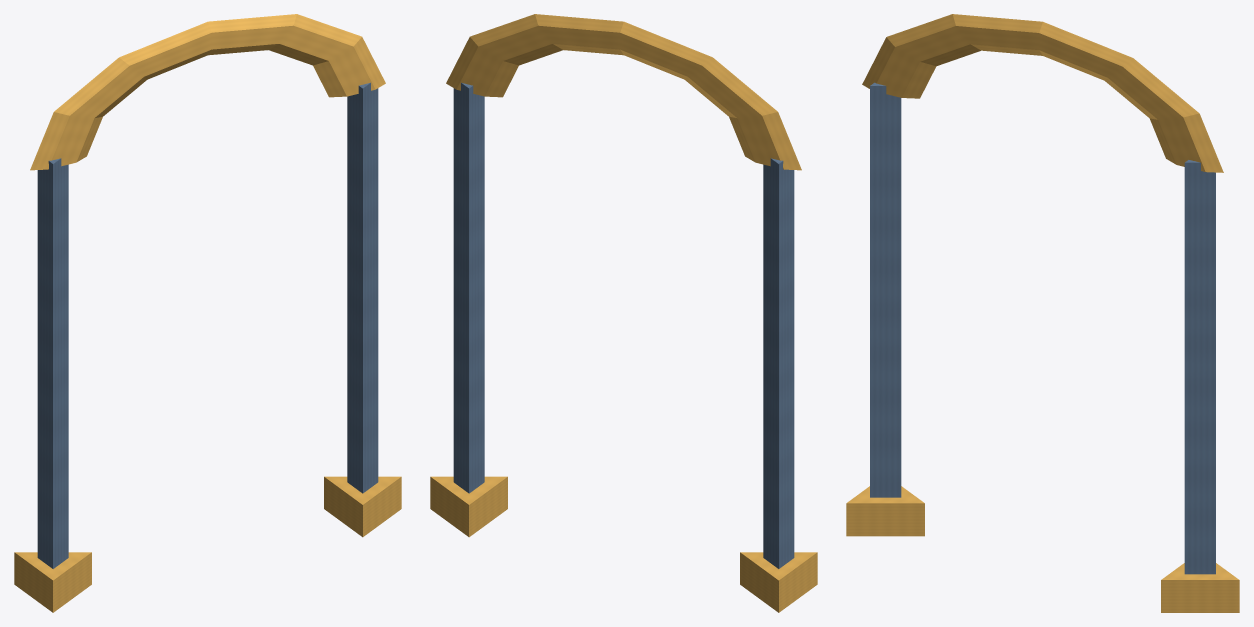
File: atlas100-s051-a09.lod2.glb
3 views of the same model, side by side, from view 1: azimuth 30°, elevation 25°; view 2: azimuth 150°, elevation 25°; view 3: azimuth 330°, elevation 25° (orthographic).
Parts seen in each view (by area): view 1: atlas100-s051-a09:part-004, atlas100-s051-a09:part-000, atlas100-s051-a09:part-002, atlas100-s051-a09:part-003, atlas100-s051-a09:part-001; view 2: atlas100-s051-a09:part-004, atlas100-s051-a09:part-000, atlas100-s051-a09:part-002, atlas100-s051-a09:part-003, atlas100-s051-a09:part-001; view 3: atlas100-s051-a09:part-004, atlas100-s051-a09:part-002, atlas100-s051-a09:part-000, atlas100-s051-a09:part-001, atlas100-s051-a09:part-003.
Part boxes in pixels (x1=…): atlas100-s051-a09:part-004: x1=30, y1=14, x2=385, y2=170; atlas100-s051-a09:part-000: x1=37, y1=158, x2=68, y2=568; atlas100-s051-a09:part-002: x1=347, y1=82, x2=378, y2=493; atlas100-s051-a09:part-003: x1=324, y1=476, x2=401, y2=537; atlas100-s051-a09:part-001: x1=14, y1=552, x2=91, y2=612; atlas100-s051-a09:part-004: x1=446, y1=14, x2=801, y2=170; atlas100-s051-a09:part-000: x1=763, y1=158, x2=794, y2=568; atlas100-s051-a09:part-002: x1=453, y1=82, x2=484, y2=493; atlas100-s051-a09:part-003: x1=430, y1=476, x2=507, y2=537; atlas100-s051-a09:part-001: x1=740, y1=552, x2=817, y2=612; atlas100-s051-a09:part-004: x1=862, y1=14, x2=1223, y2=172; atlas100-s051-a09:part-002: x1=1184, y1=160, x2=1215, y2=574; atlas100-s051-a09:part-000: x1=870, y1=82, x2=901, y2=497; atlas100-s051-a09:part-001: x1=846, y1=486, x2=924, y2=536; atlas100-s051-a09:part-003: x1=1161, y1=563, x2=1239, y2=612.
Bounding box in the file's own units: 2.4 × 3.3 × 0.433.
Materials: 2 (2 with a texture image).
